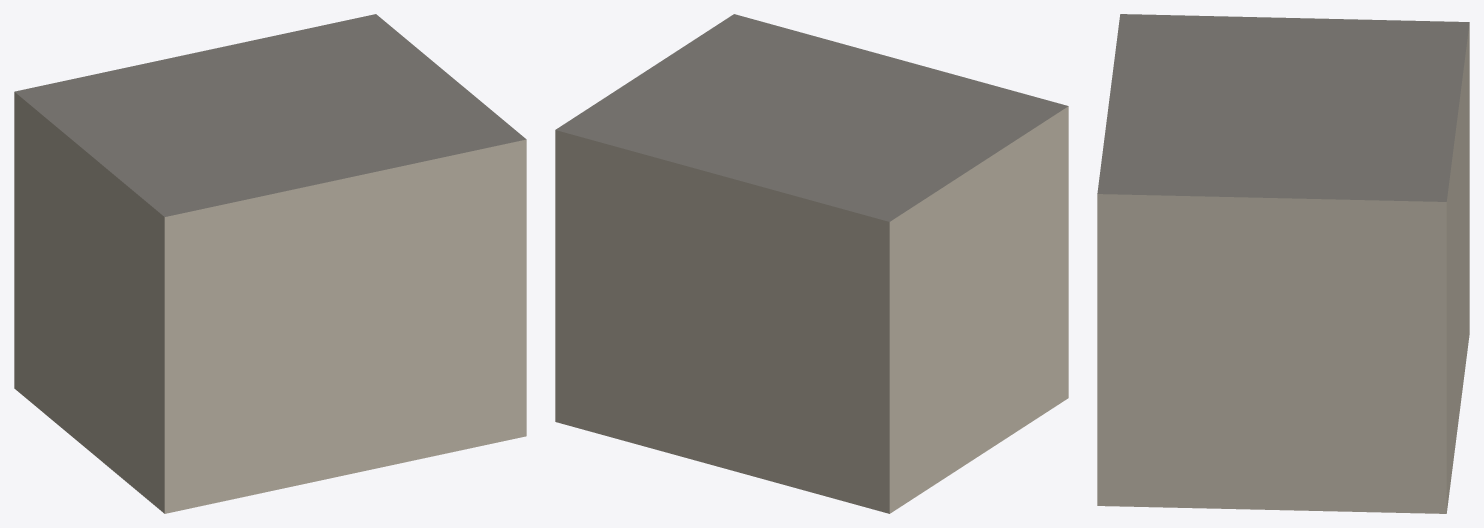
3 views of the same model, side by side, from view 1: azimuth 30°, elevation 25°; view 2: azimuth 150°, elevation 25°; view 3: azimuth 270°, elevation 25° (orthographic). The views are drawn at different scales.
Parts seen in each view (by area): view 1: HP-w1286956088; view 2: HP-w1286956088; view 3: HP-w1286956088.
Boxes of the visible parts, box(x1,y1,x2,y2) form: HP-w1286956088: box(14, 14, 526, 513); HP-w1286956088: box(555, 14, 1068, 513); HP-w1286956088: box(1097, 14, 1469, 513).
Bounding box in the file's own units: 23.27 × 18 × 19.47.
